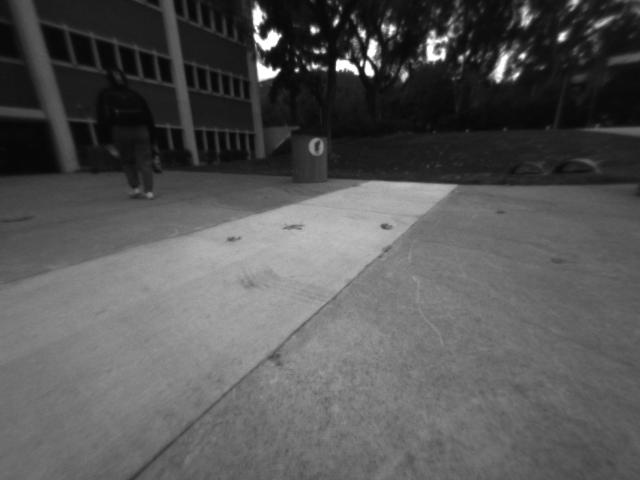trashcan: (287, 130, 332, 192)
